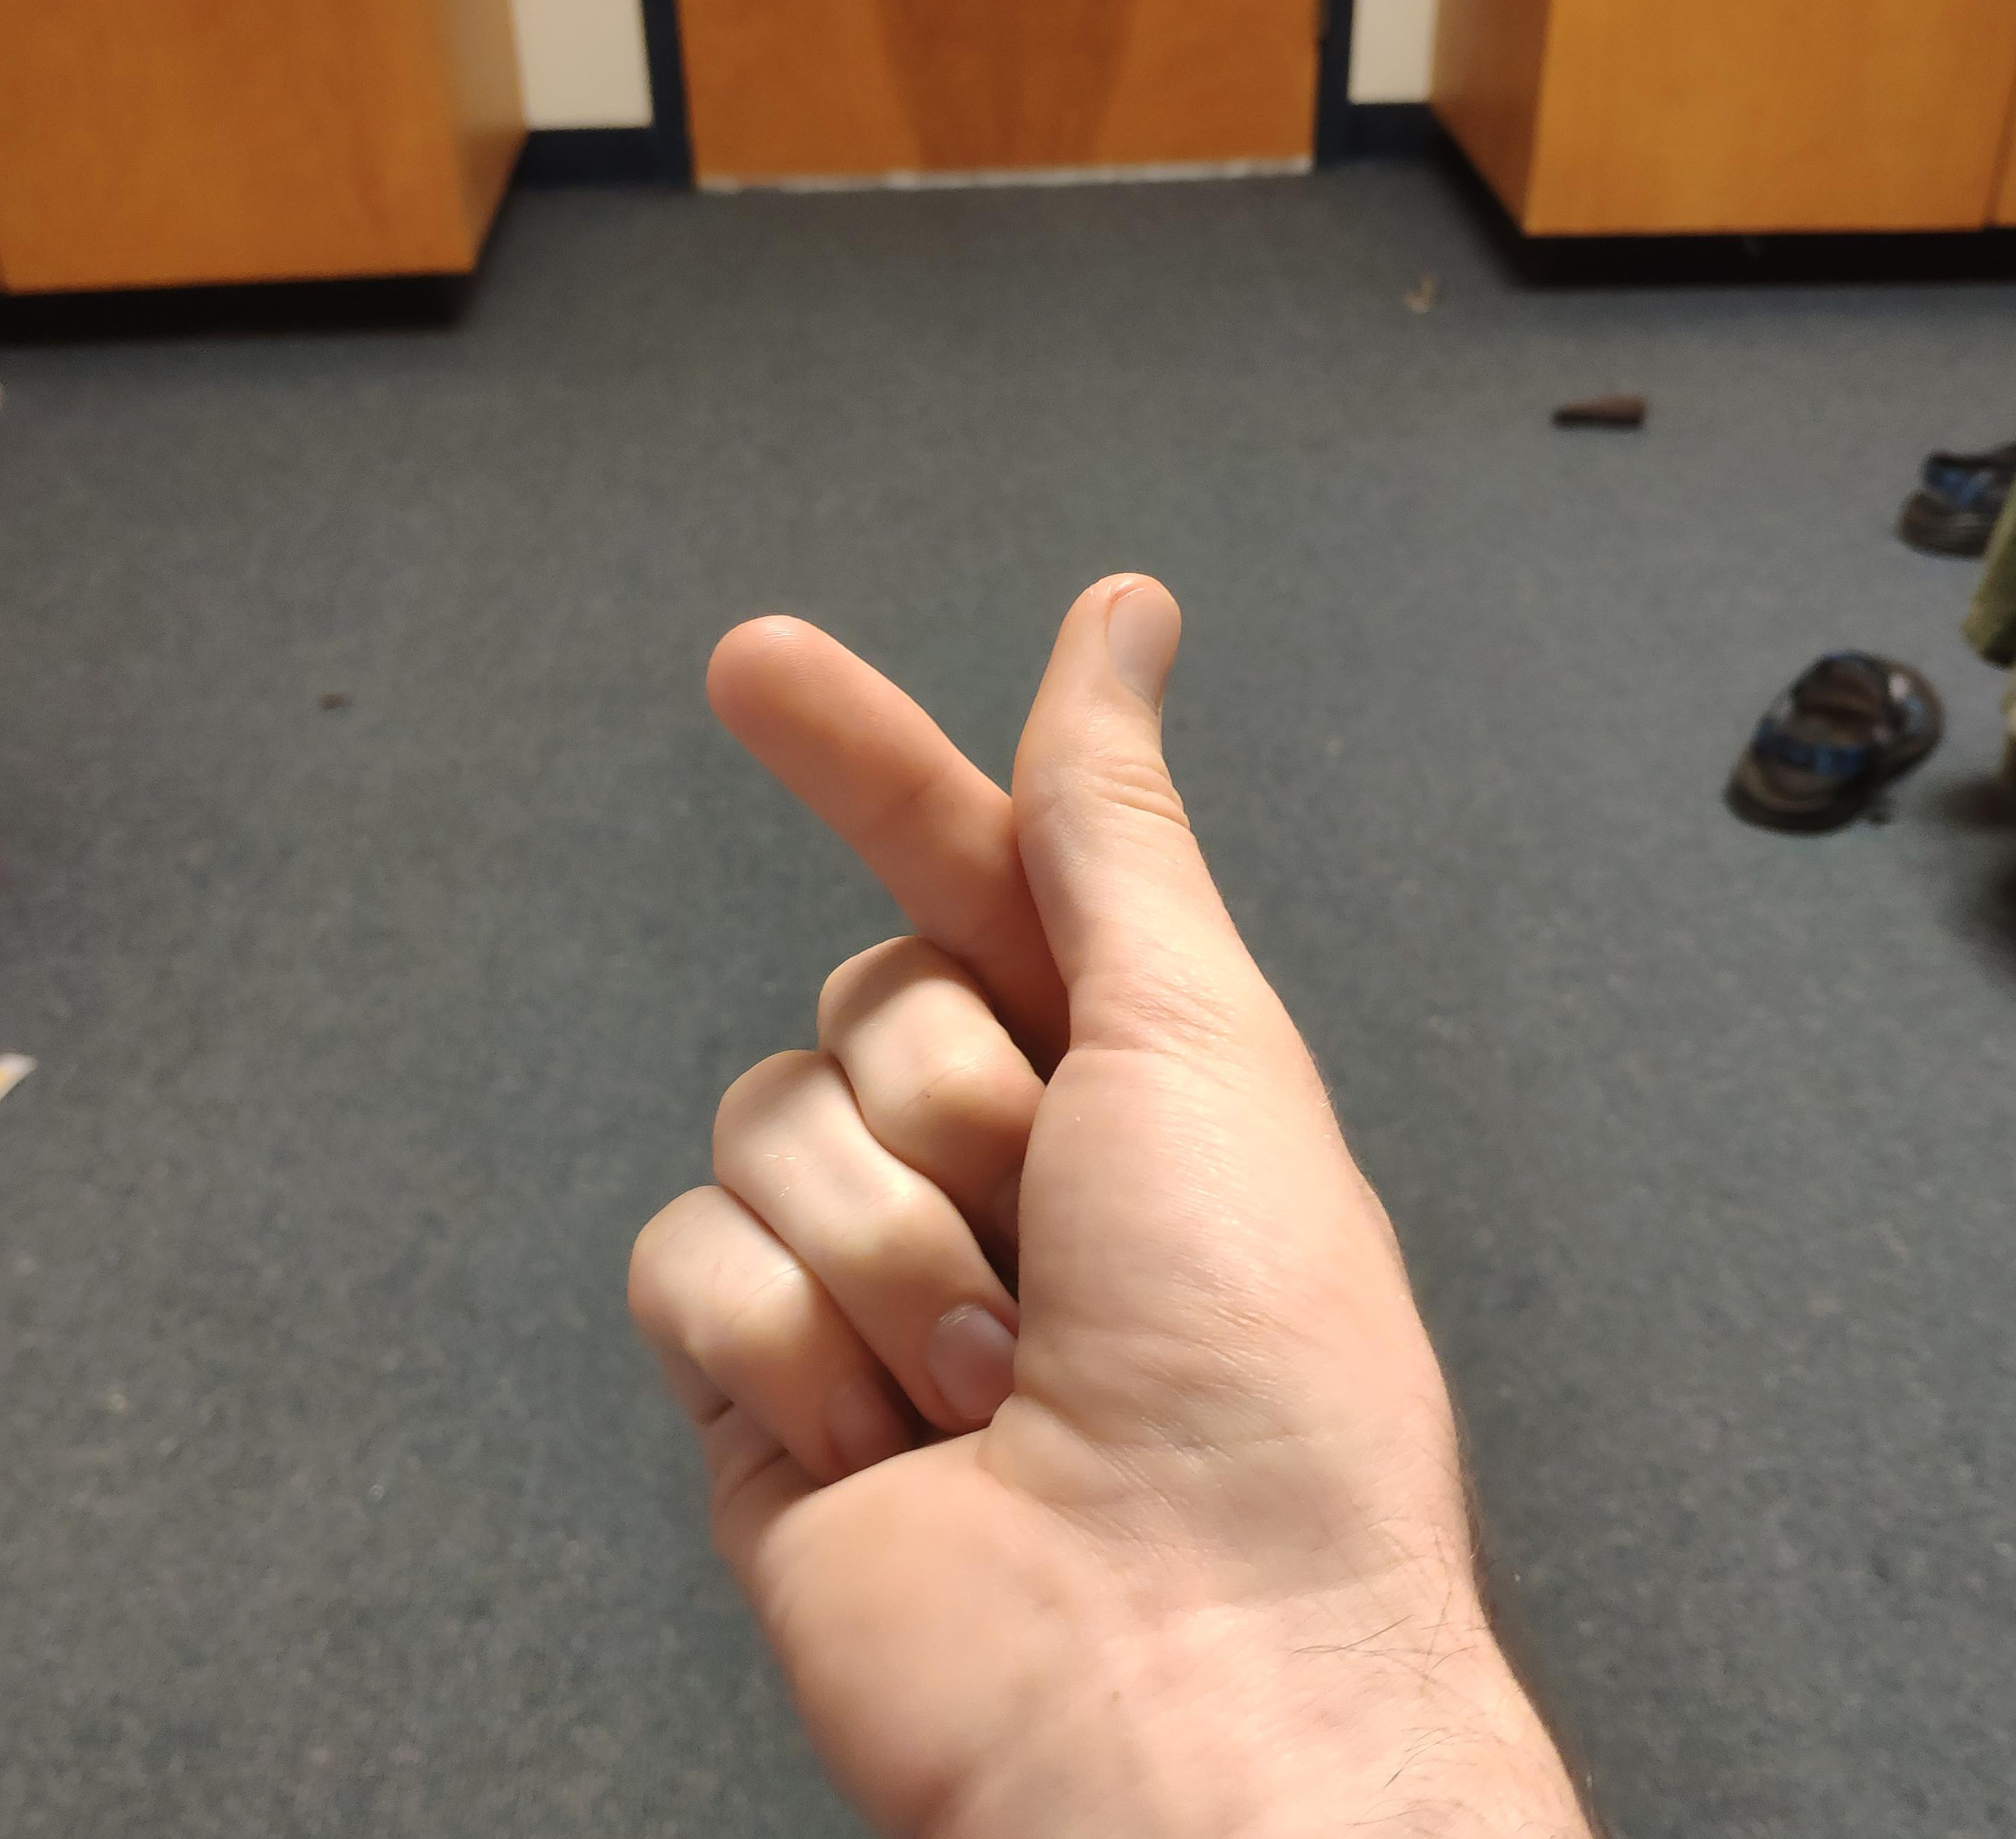heart gesture: (690, 555, 1212, 989)
